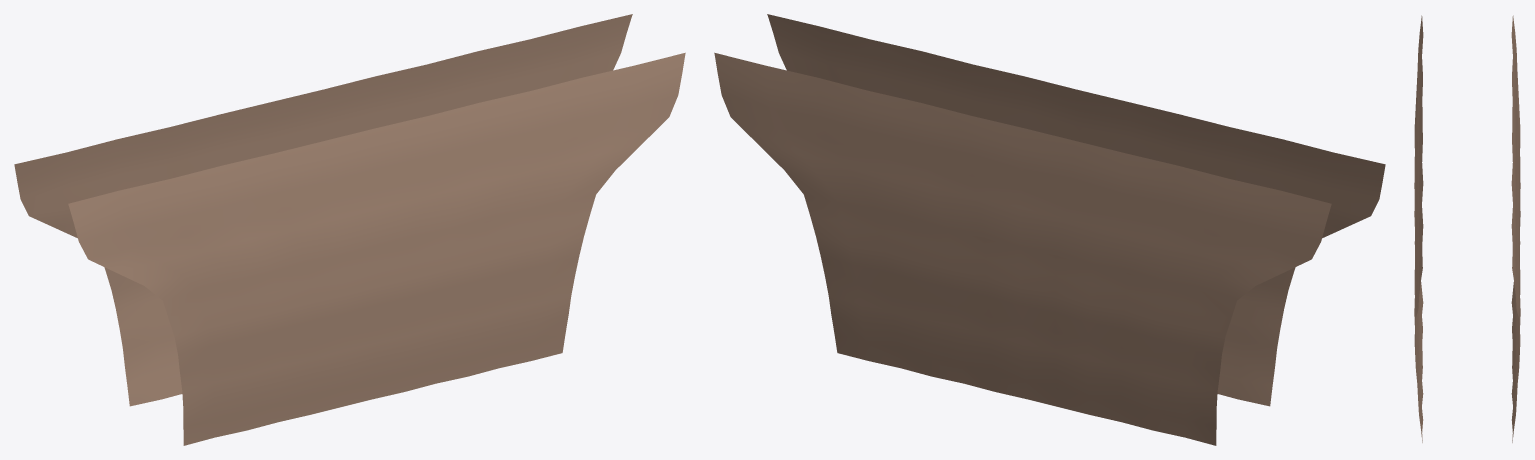
File: fallback.glb
3 views of the same model, side by side, from view 1: azimuth 30°, elevation 25°; view 2: azimuth 150°, elevation 25°; view 3: azimuth 270°, elevation 25° (orthographic). The views are drawn at different scales.
Visible parts, largest first — view 1: simulation:clean:manual-tshirt-03.front, simulation:clean:manual-tshirt-03.back; view 2: simulation:clean:manual-tshirt-03.back, simulation:clean:manual-tshirt-03.front; view 3: simulation:clean:manual-tshirt-03.front, simulation:clean:manual-tshirt-03.back.
Boxes of the visible parts, box(x1,y1,x2,y2) form: simulation:clean:manual-tshirt-03.front: box(68, 52, 685, 445); simulation:clean:manual-tshirt-03.back: box(14, 14, 632, 406); simulation:clean:manual-tshirt-03.back: box(714, 52, 1331, 445); simulation:clean:manual-tshirt-03.front: box(767, 14, 1385, 406); simulation:clean:manual-tshirt-03.front: box(1414, 15, 1423, 442); simulation:clean:manual-tshirt-03.back: box(1511, 15, 1520, 442).
Size of the model in its own units: 1.53 by 0.64 by 0.2702.
